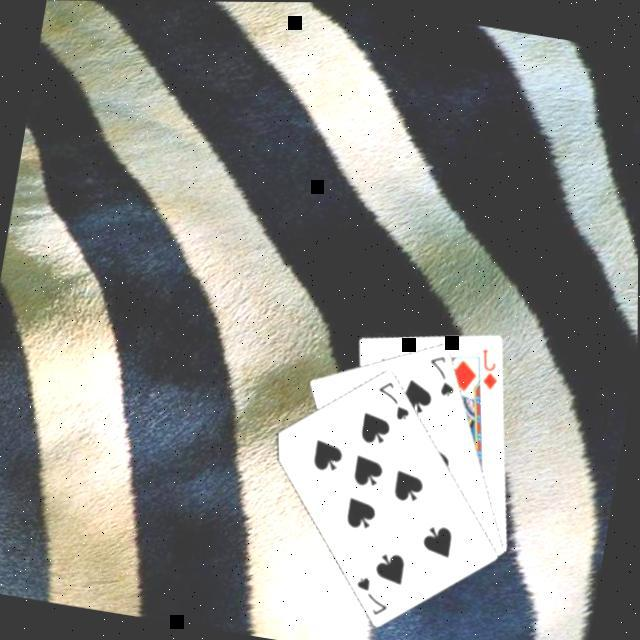7S: (373, 376, 419, 426), (351, 572, 397, 621), (424, 350, 466, 401)
JD: (476, 345, 508, 394)
